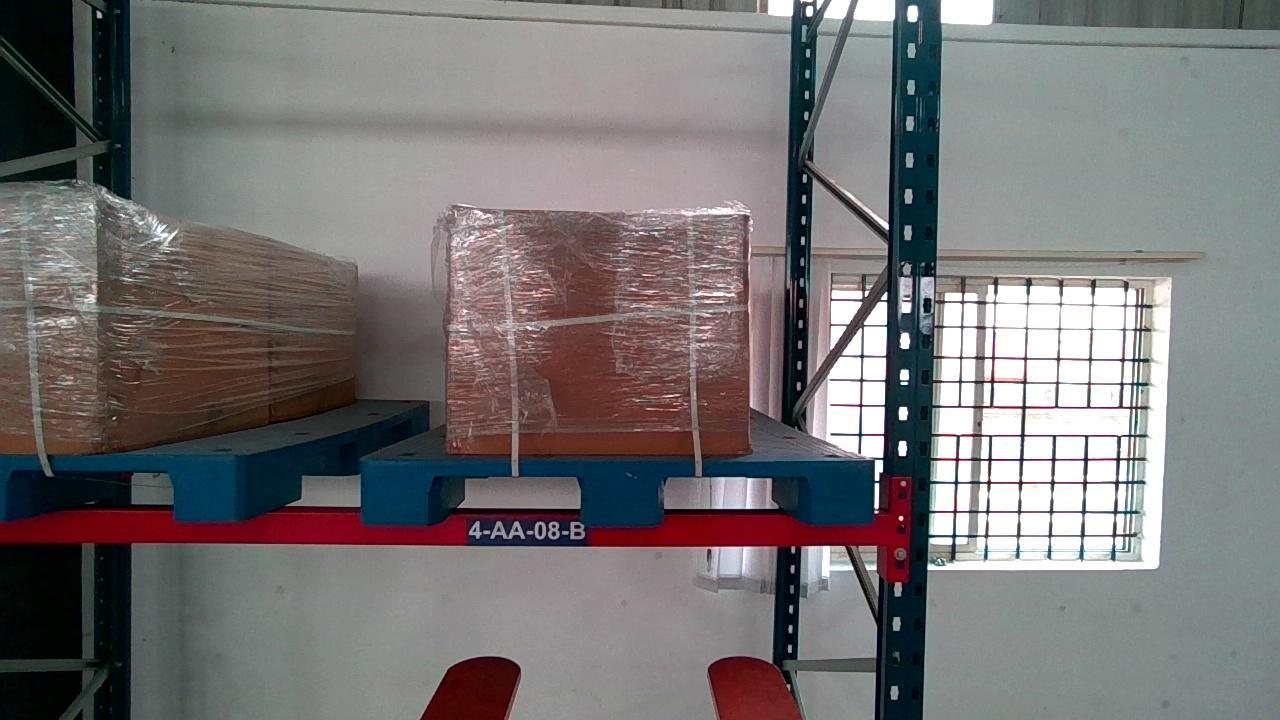h_rack: (0, 512, 900, 542)
small_pallet: (361, 457, 875, 526), (0, 453, 239, 521)
